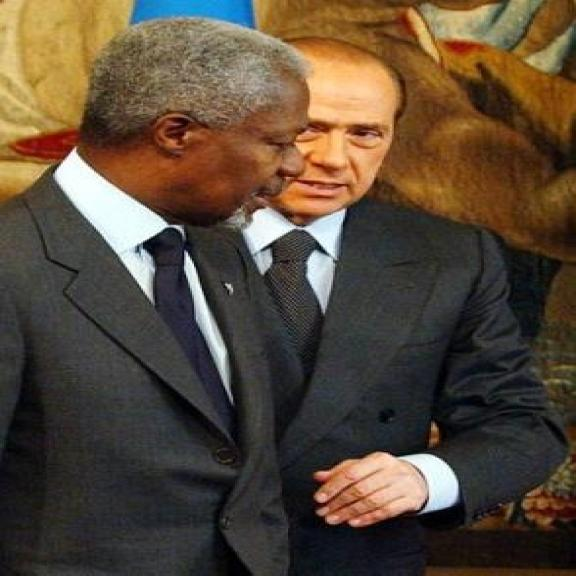face: (151, 48, 309, 230), (276, 45, 412, 219)
